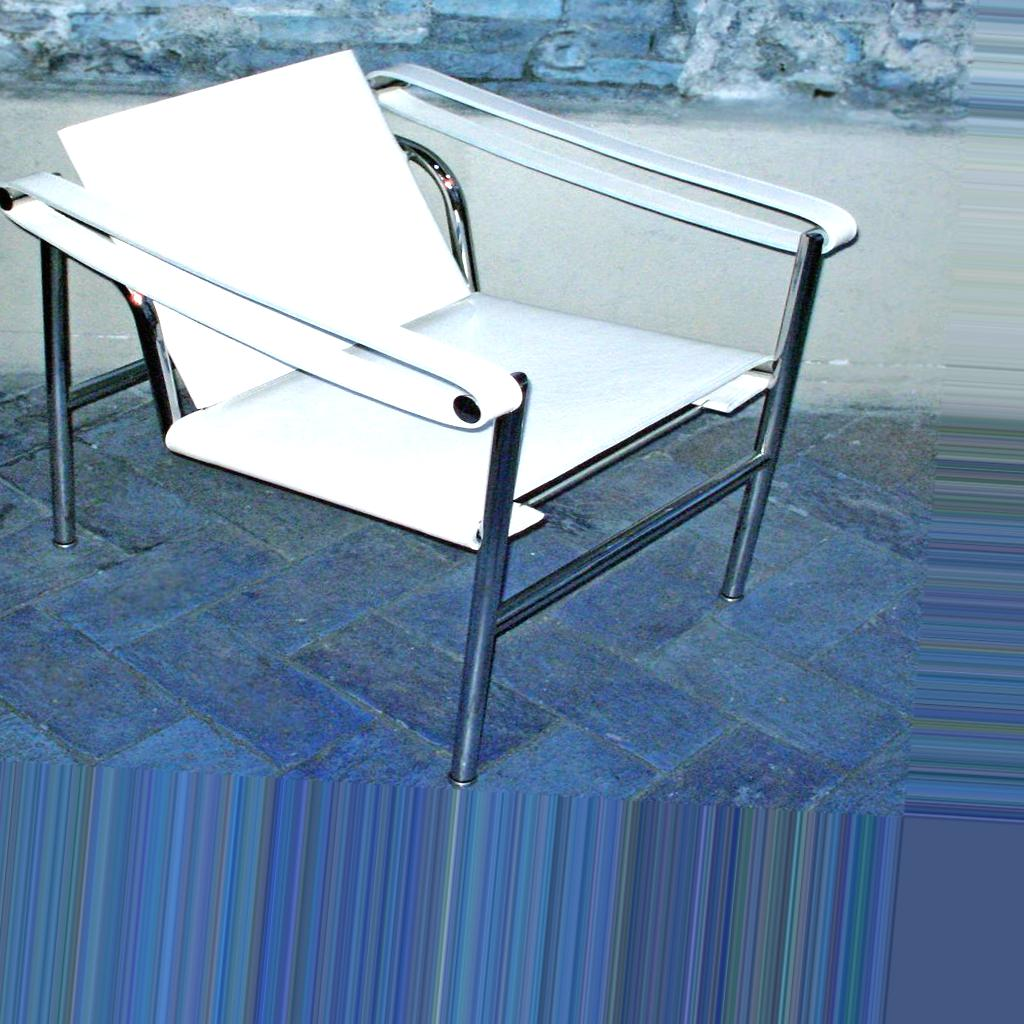chair: (1, 44, 864, 790)
